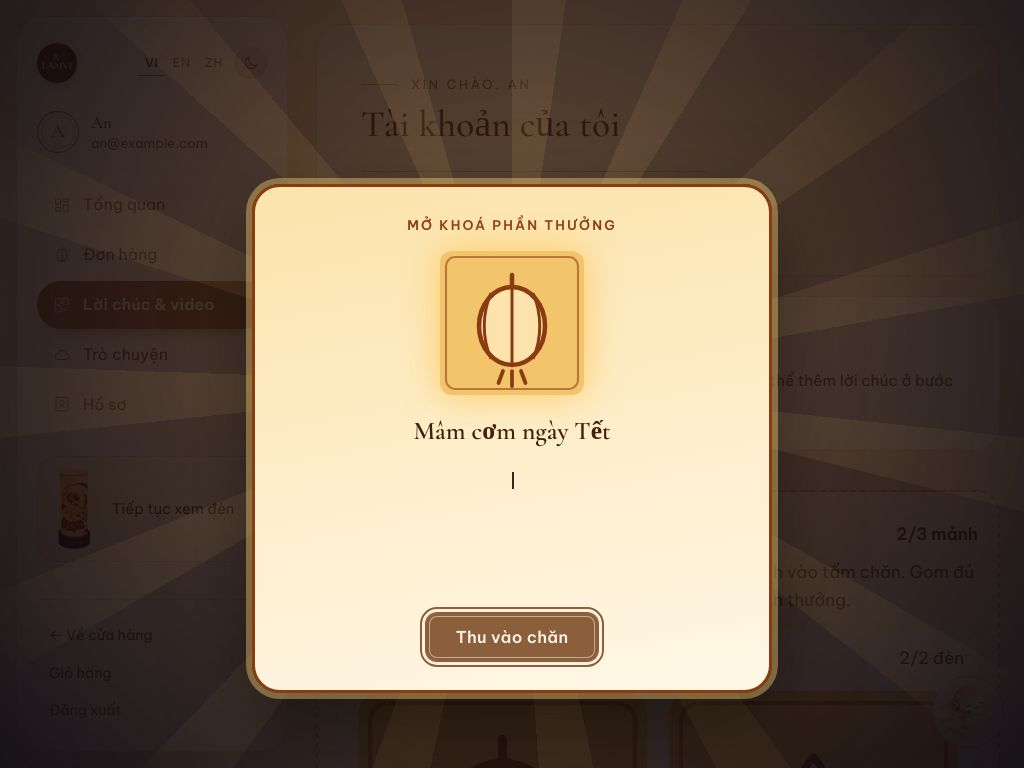
Scenario: Quilt: phần thưởng › modal portal ra body, focus vào nút đóng, đóng ghi c:<slug> và p:<slug>
This screenshot has width=1024, height=768.
Click the button "Thu vào chăn": (512, 638) [425, 612, 599, 662]
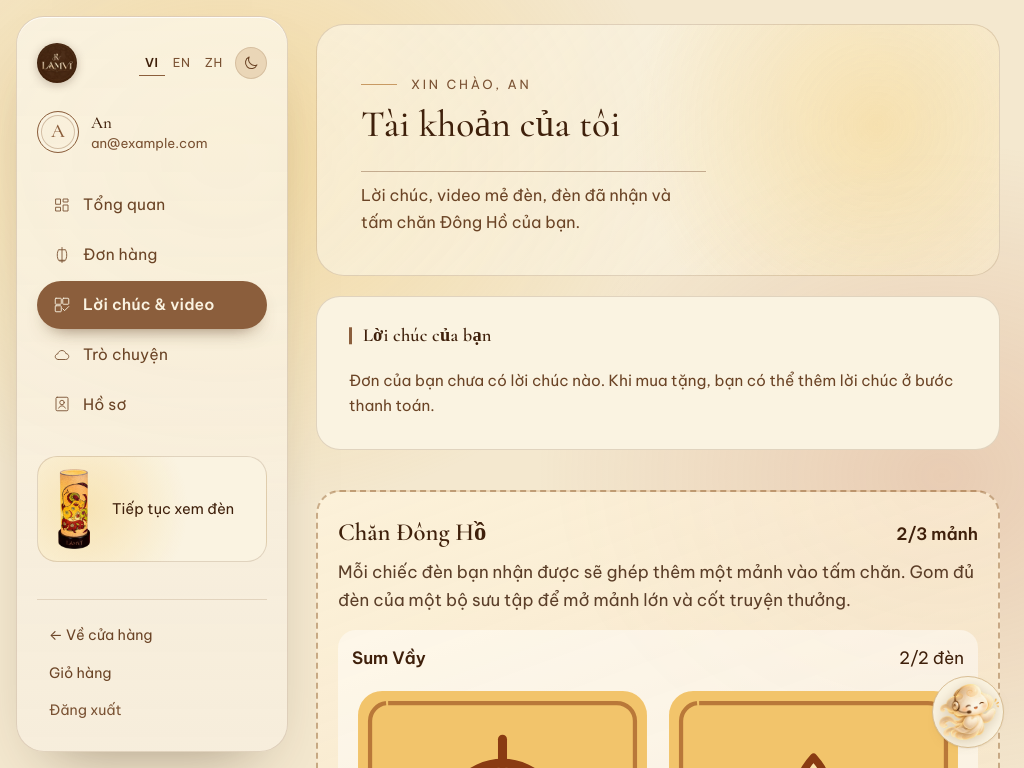
Result: the dialog is gone
